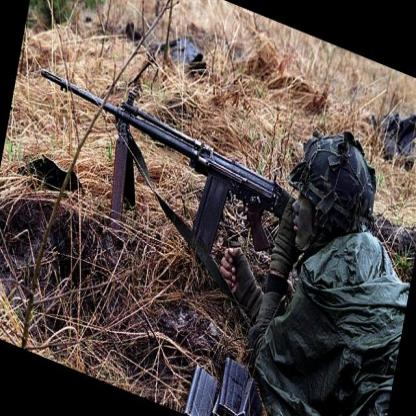rifle: (24, 55, 300, 269)
